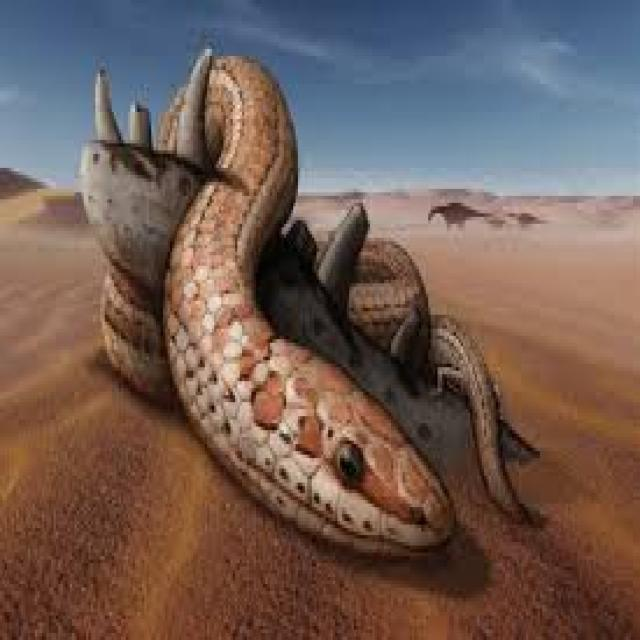Snake: (82, 42, 549, 570)
